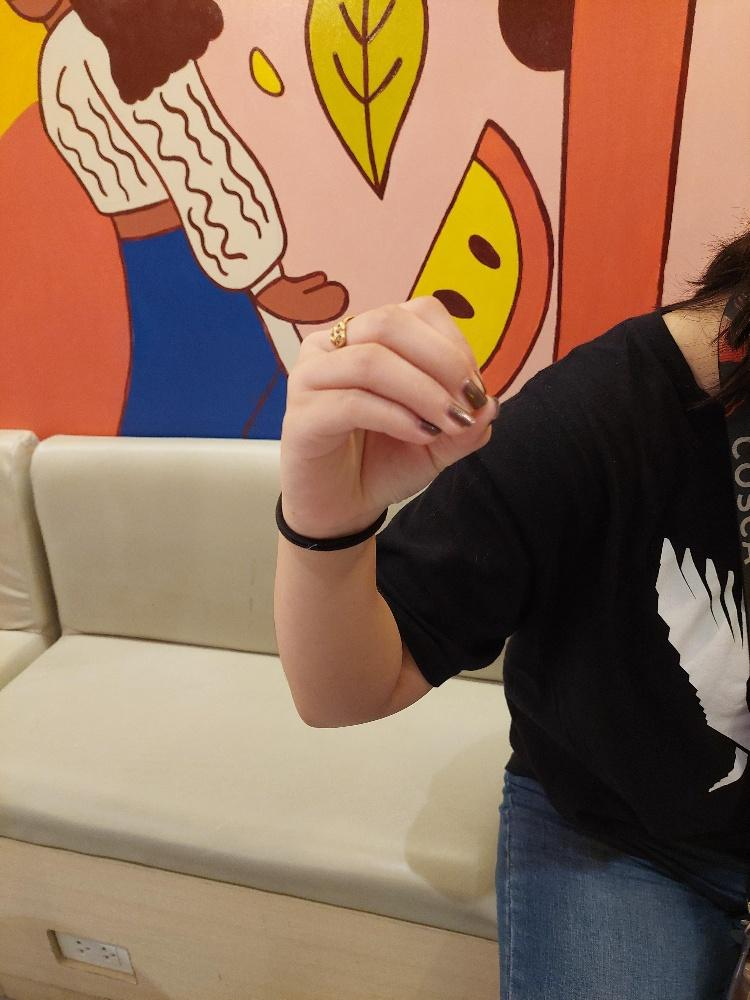o: (275, 290, 502, 529)
